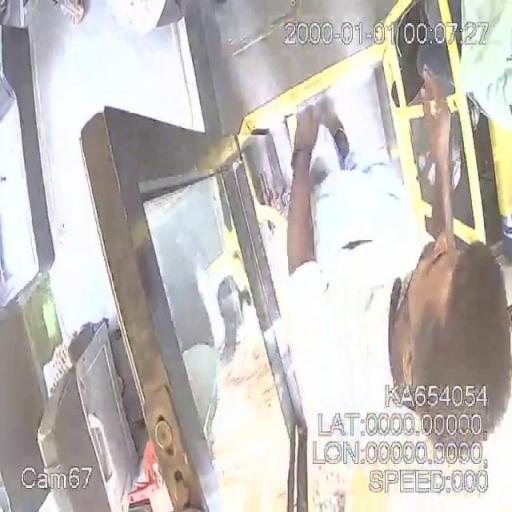persona: (260, 104, 512, 450)
